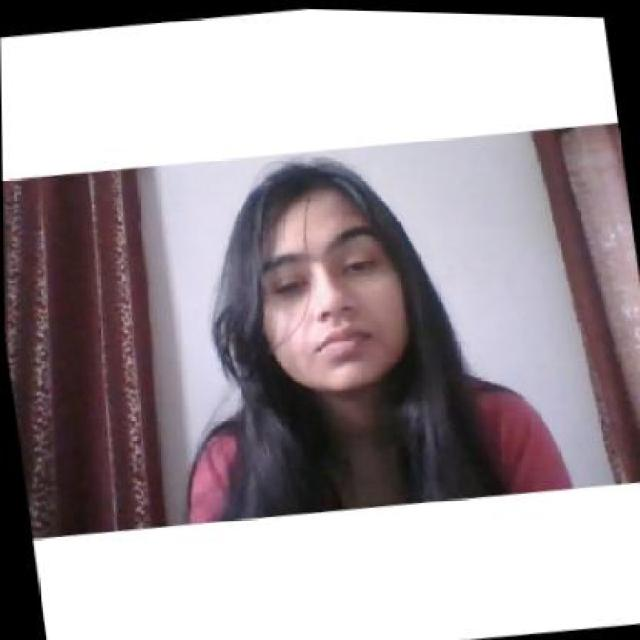attentif: (240, 148, 414, 395)
